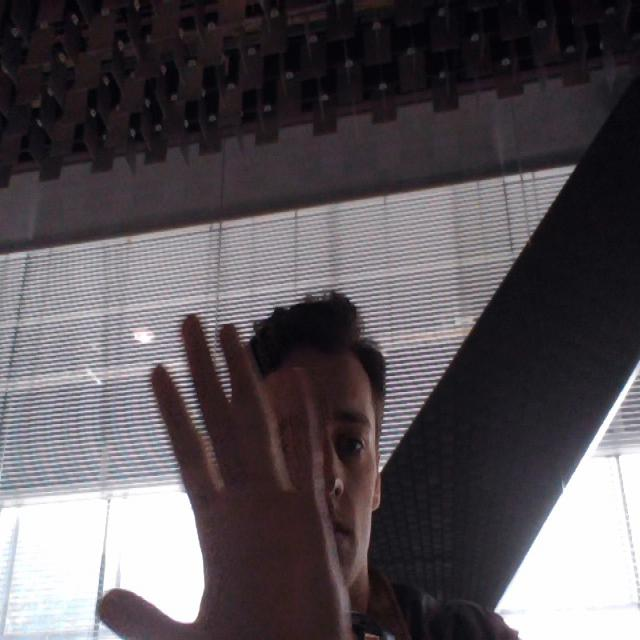backward: (97, 300, 428, 639)
